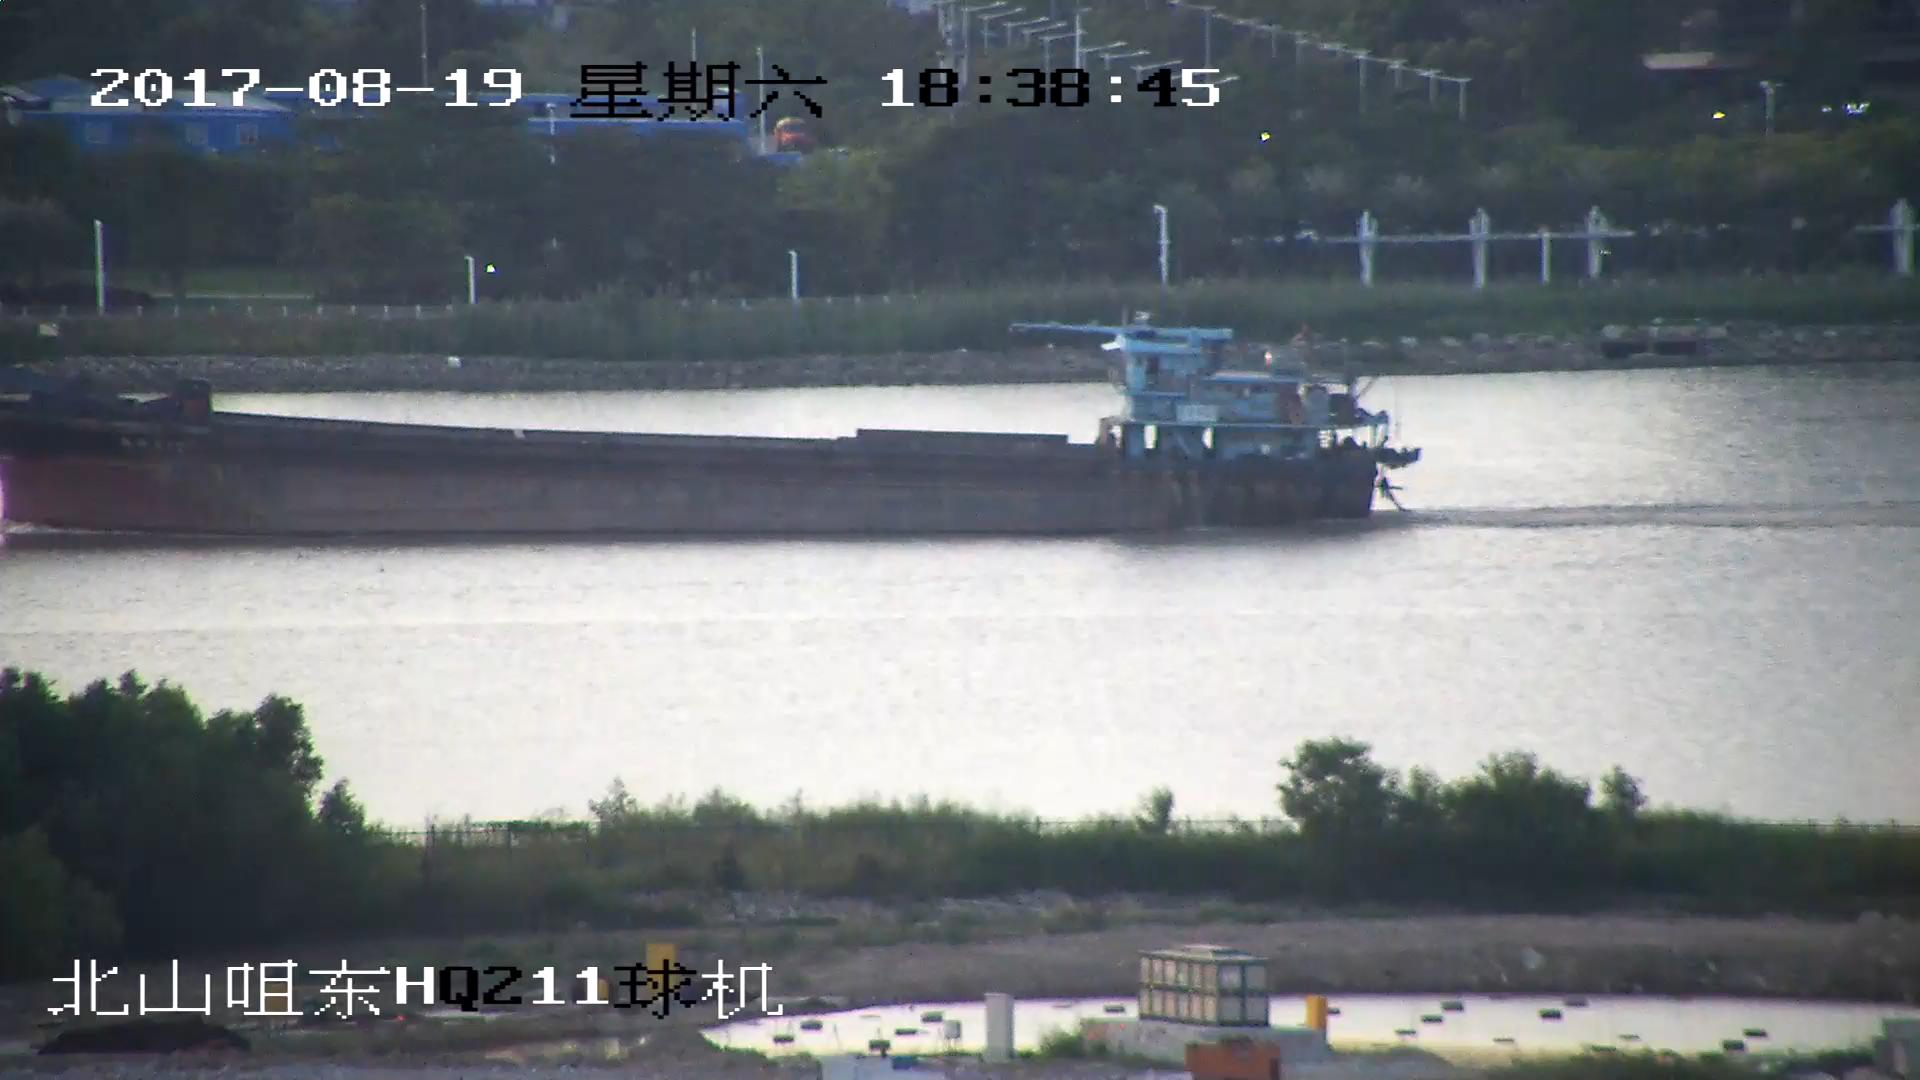bulk cargo carrier: (1, 308, 1399, 533)
